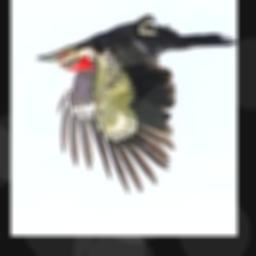Woodpecker: (35, 14, 237, 194)
